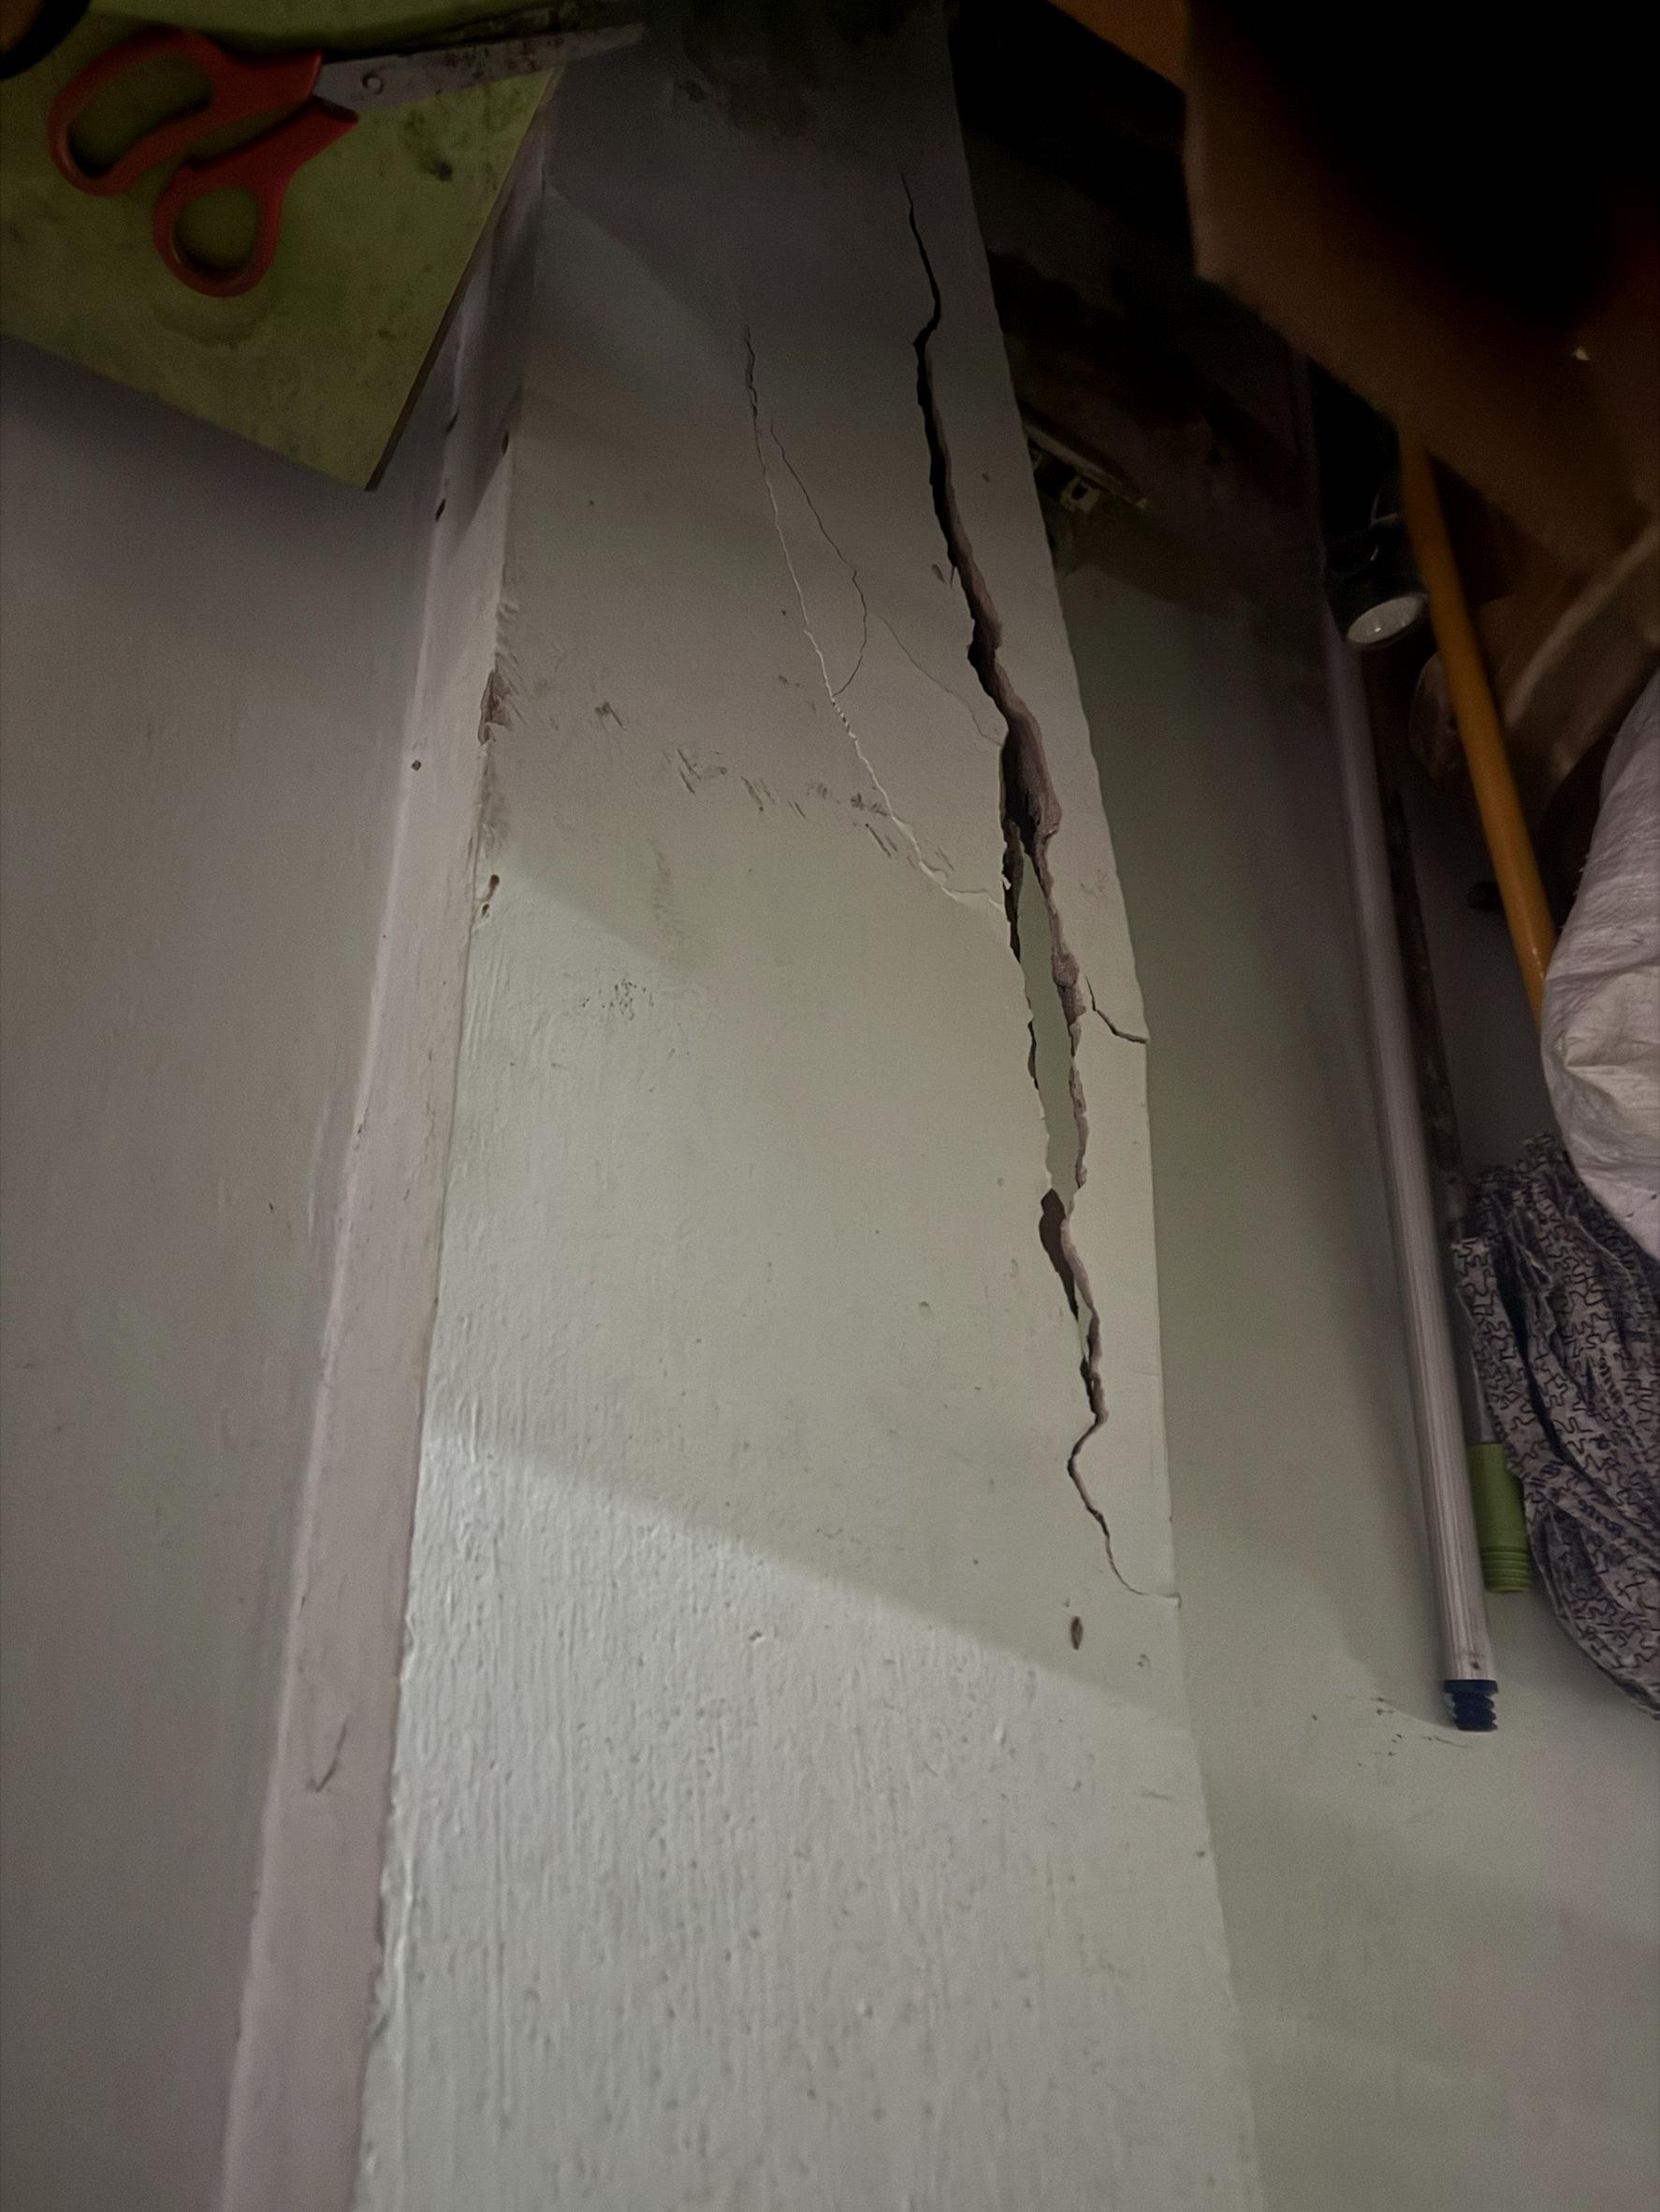High: (807, 120, 1287, 1680)
